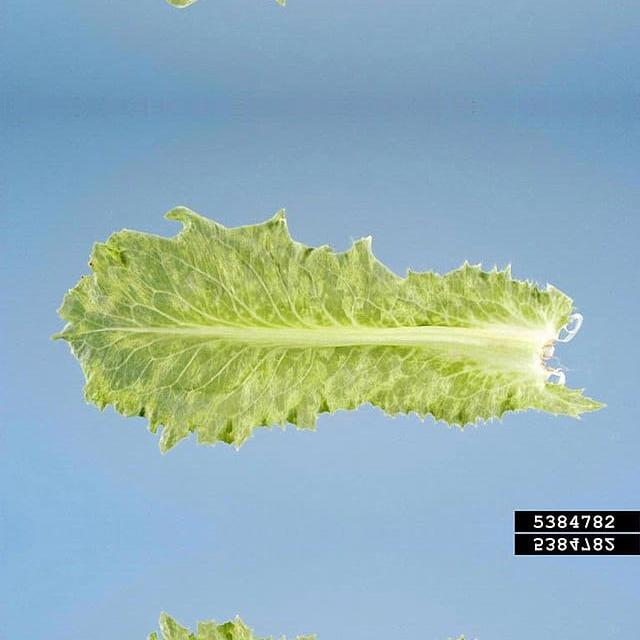lettuce mosaic virus: (82, 234, 570, 426), (82, 639, 570, 640)
